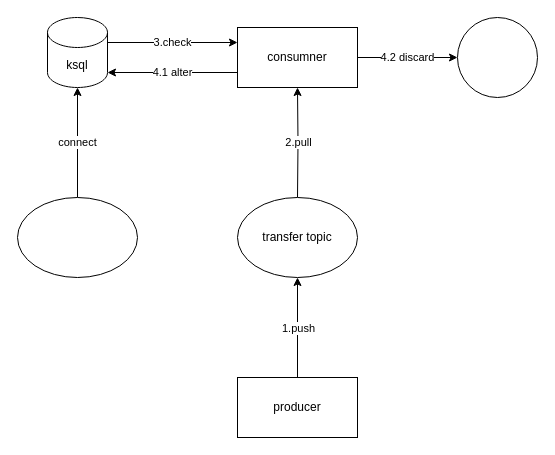
This 555x455 diagram has some shape labels left out. Here are the shapes that lost their labels. From the top down, the box of each, then its label:
(456, 16, 538, 98): fail
(16, 196, 138, 278): balance topic
